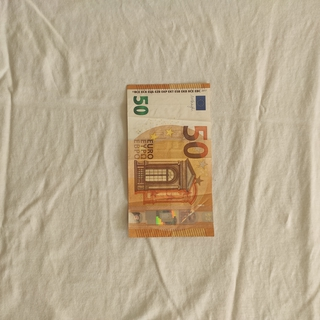50EUROFront: (126, 80, 215, 239)
